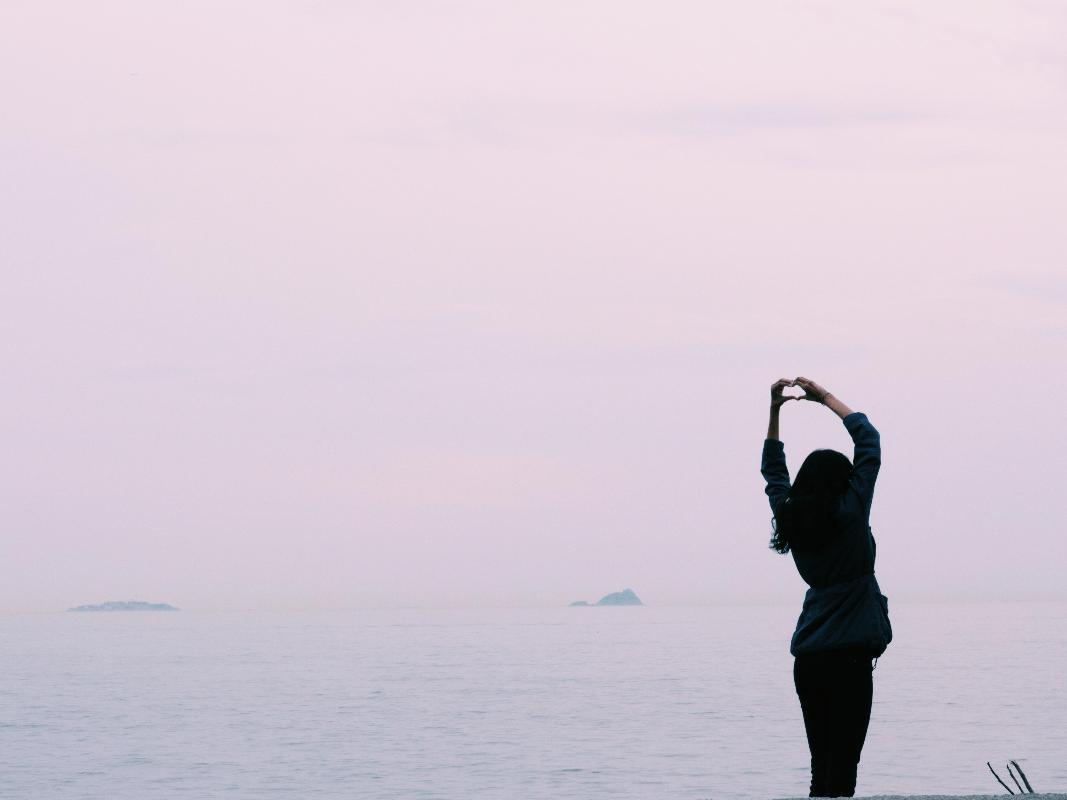Person: (758, 371, 896, 800)
